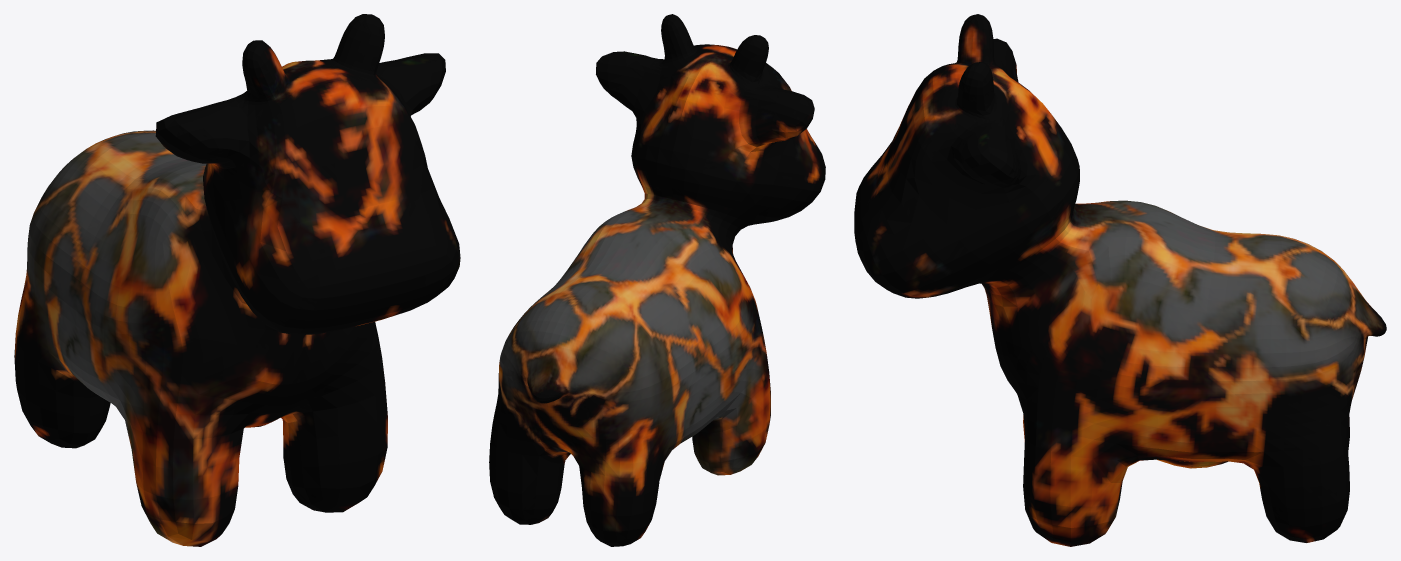
Rendered from frozen_t3.glb.
The picture shows the model from 3 angles, left to right: view 1: azimuth 30°, elevation 25°; view 2: azimuth 150°, elevation 25°; view 3: azimuth 270°, elevation 25°; orthographic projection. The views are drawn at different scales.
Parts seen in each view (by area): view 1: geometry_0; view 2: geometry_0; view 3: geometry_0.
Boxes of the visible parts, box(x1,y1,x2,y2) form: geometry_0: box(14, 14, 460, 546); geometry_0: box(489, 14, 825, 546); geometry_0: box(854, 14, 1386, 546).
Size of the model in its own units: 0.549 by 0.984 by 1.
